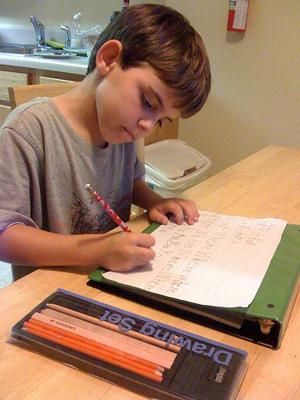person: (2, 5, 210, 274)
